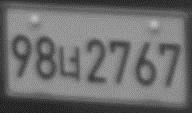2: (84, 37, 108, 85)
6: (134, 41, 157, 87)
7: (158, 41, 182, 88), (108, 39, 131, 84)
8: (34, 34, 57, 79)
9: (10, 34, 32, 78)
너: (58, 44, 82, 81)
